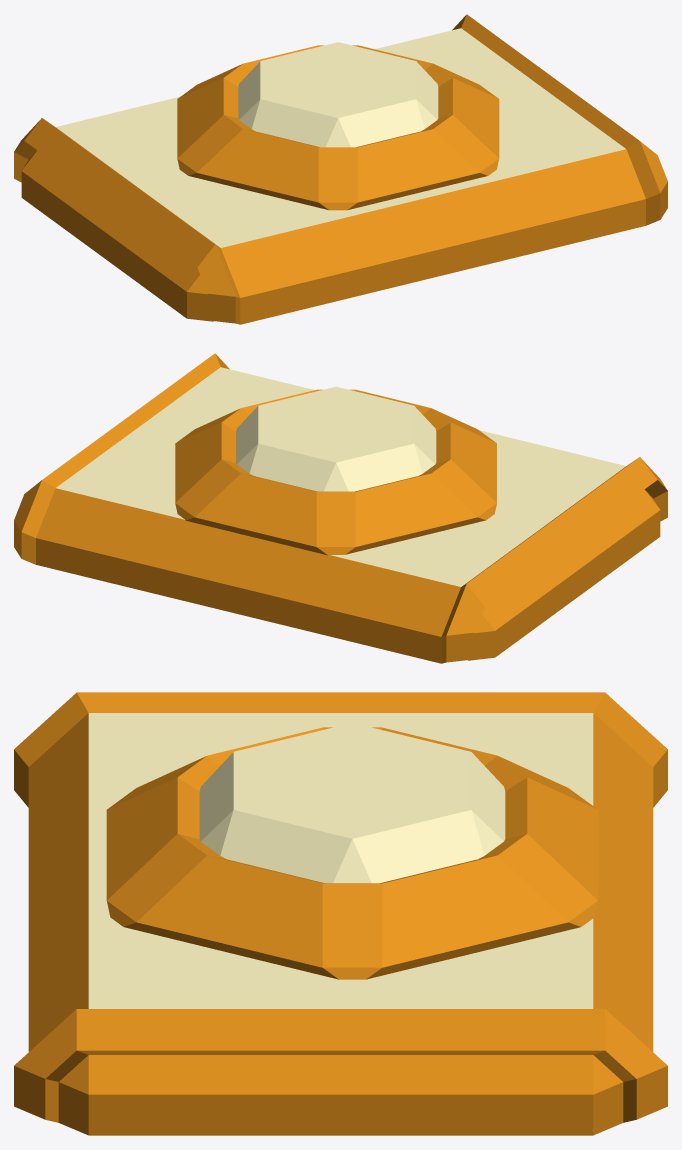
Rendered from Kasa Kapağı.fbx.
3 views of the same model, one above another, from view 1: azimuth 30°, elevation 25°; view 2: azimuth 150°, elevation 25°; view 3: azimuth 270°, elevation 25° (orthographic). The views are drawn at different scales.
Parts seen in each view (by area): view 1: Kasa Kapağı; view 2: Kasa Kapağı; view 3: Kasa Kapağı.
Part boxes in pixels (x1,y1,x2,y2): Kasa Kapağı: (14,14,667,324); Kasa Kapağı: (14,353,667,663); Kasa Kapağı: (14,692,667,1135).
Size of the model in its own units: 267 by 63.26 by 209.
